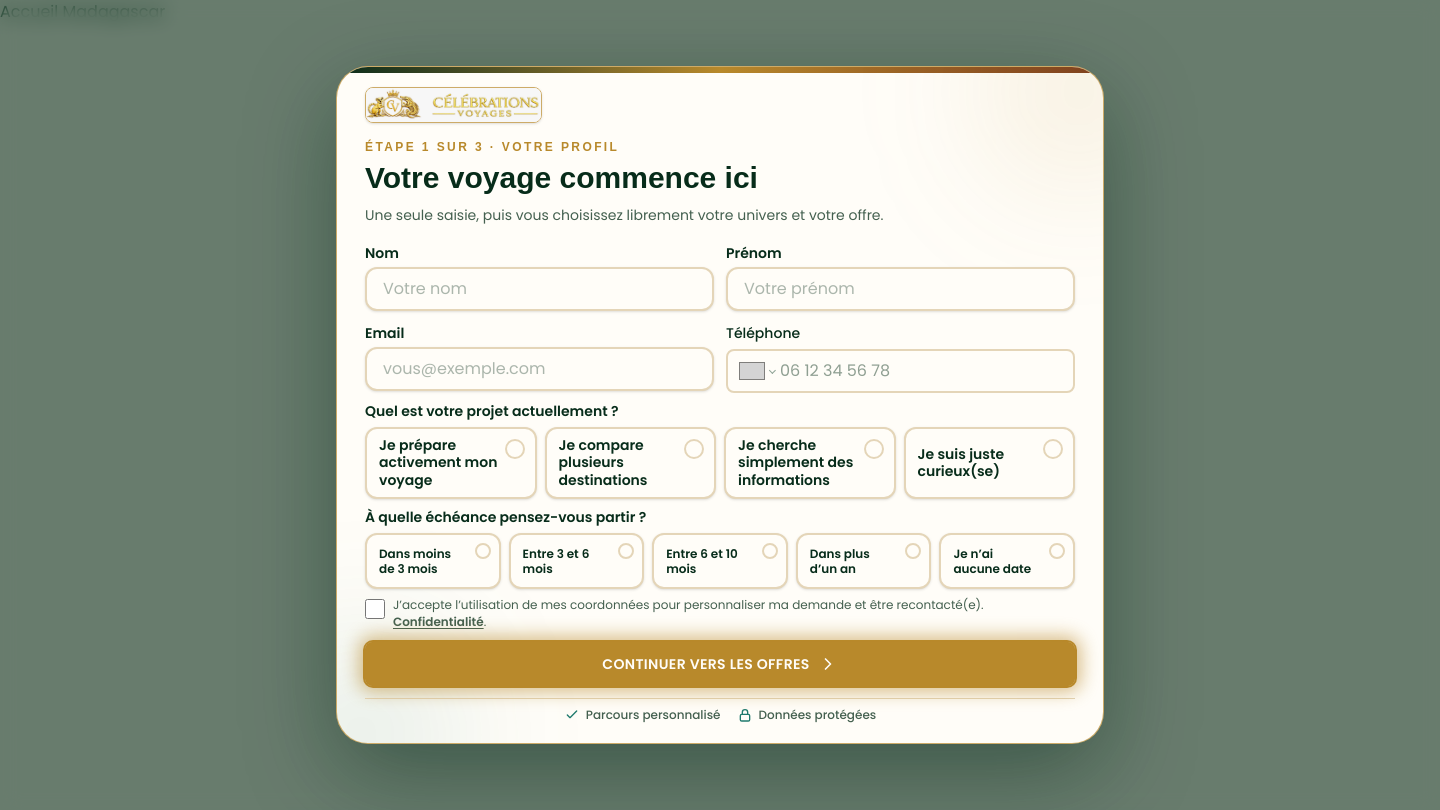
it: bloque l'accueil et valide toutes les informations obligatoires
Expected: the dialog is shown, 336,66 -> 1104,744
Expected: the element showing "Accueil Madagascar" is shown, 0,0 -> 165,23
Click the button "Continuer vers les offres".
click(720, 664)  # box 365,642 -> 1075,686
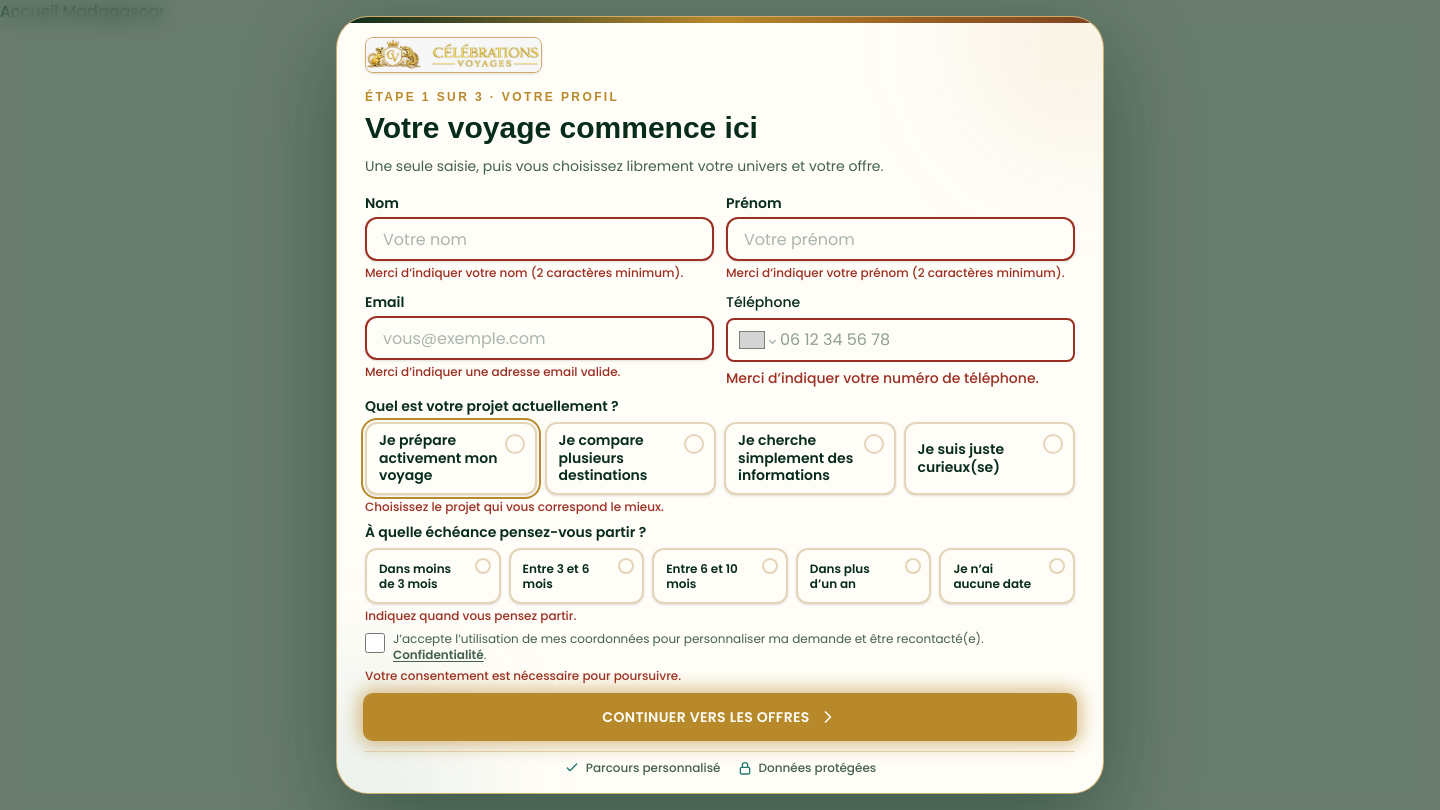
Result: the number of messages is 7
